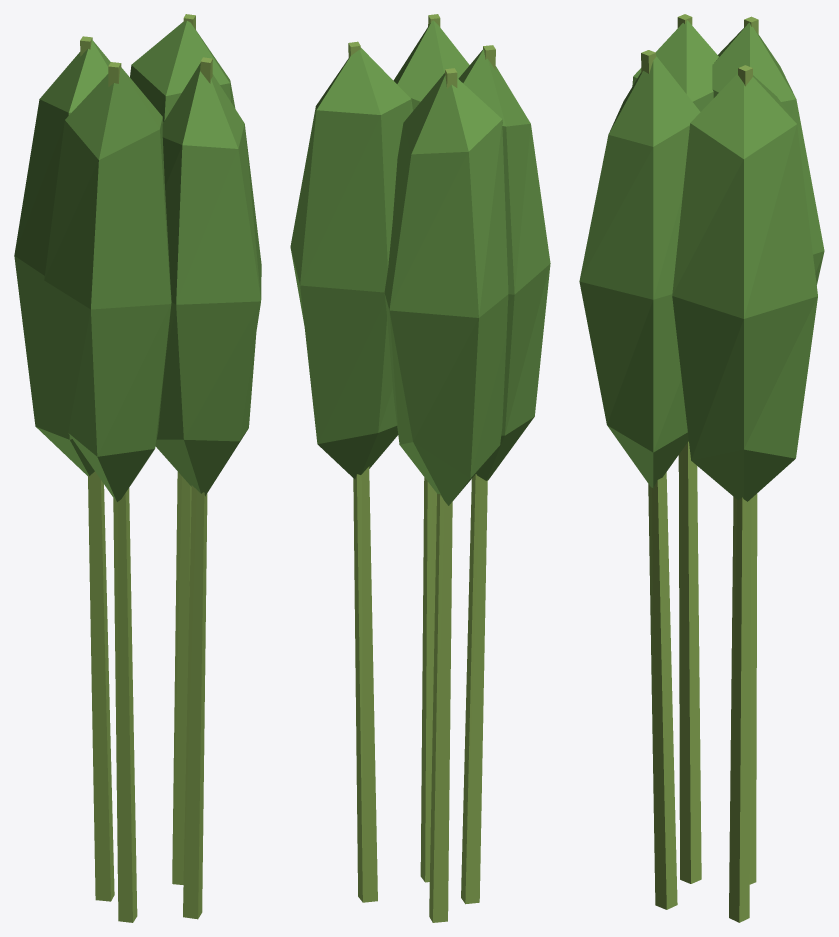
File: take.glb
The picture shows the model from 3 angles, left to right: view 1: azimuth 30°, elevation 25°; view 2: azimuth 150°, elevation 25°; view 3: azimuth 270°, elevation 25°; orthographic projection.
Parts seen in each view (by area): view 1: take; view 2: take; view 3: take.
Part boxes in pixels (x1=…): take: x1=14, y1=14, x2=261, y2=922; take: x1=290, y1=14, x2=550, y2=922; take: x1=579, y1=14, x2=824, y2=922.
Bounding box in the file's own units: 2.07 × 7.8 × 2.03.
